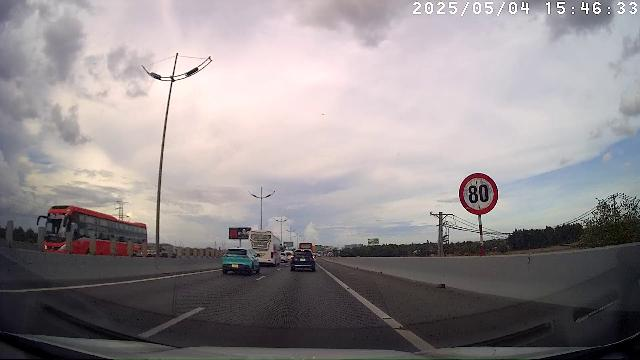127-toc-do-toi-da-80: (458, 172, 499, 215)
